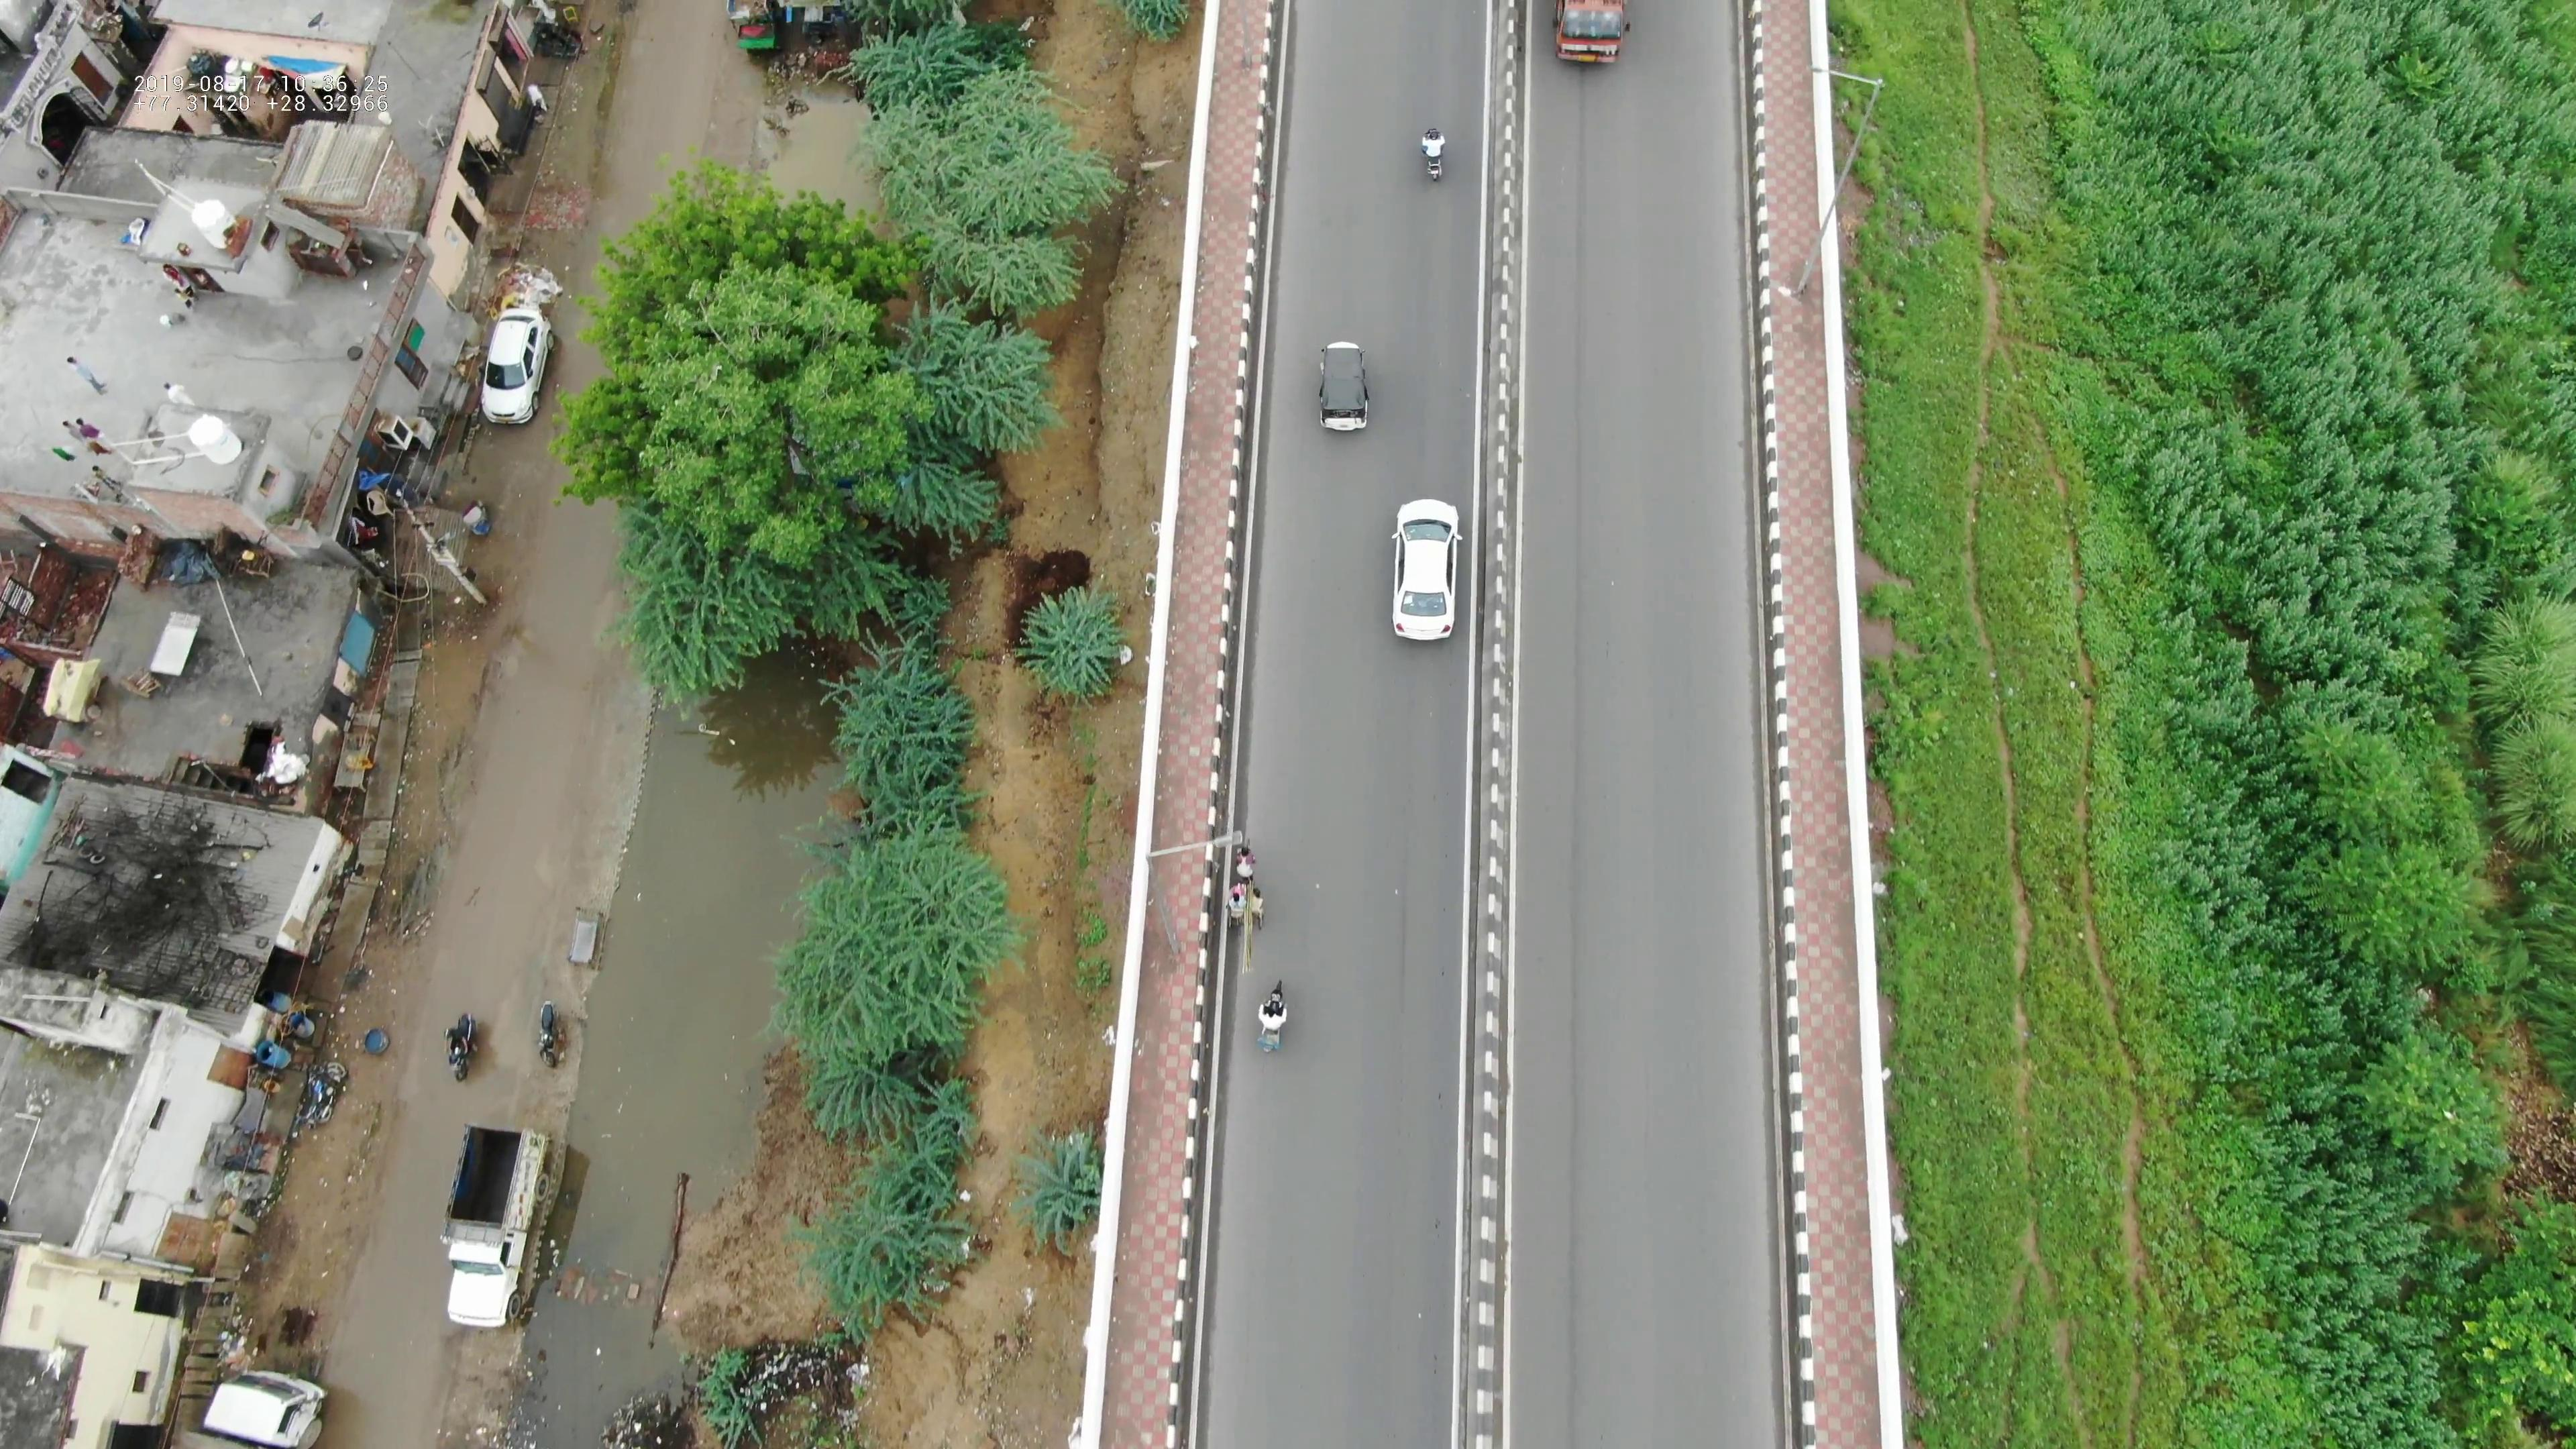Waterlogging: (502, 948, 780, 1422), (589, 671, 842, 961)
